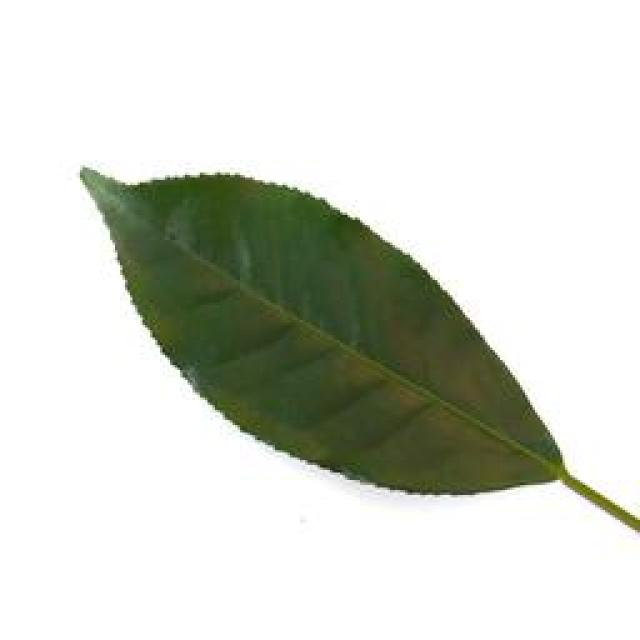Healthy: (79, 145, 566, 501)
